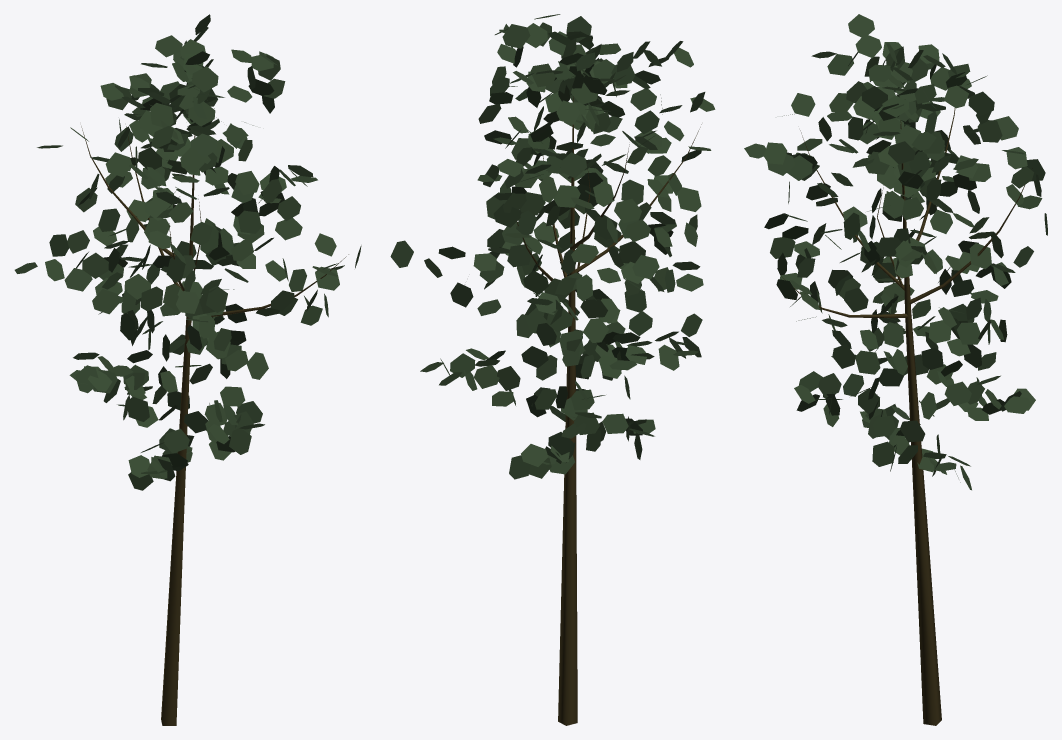
Rendered from tree-tree-009-lod1.glb.
The picture shows the model from 3 angles, left to right: view 1: azimuth 30°, elevation 25°; view 2: azimuth 150°, elevation 25°; view 3: azimuth 270°, elevation 25°; orthographic projection.
Visible parts, largest first — view 1: v_tree.009; view 2: v_tree.009; view 3: v_tree.009.
Part boxes in pixels (x1=…): v_tree.009: x1=14, y1=14, x2=361, y2=725; v_tree.009: x1=390, y1=14, x2=715, y2=725; v_tree.009: x1=744, y1=14, x2=1047, y2=725.
Size of the model in its own units: 7.25 by 16.68 by 6.67.
